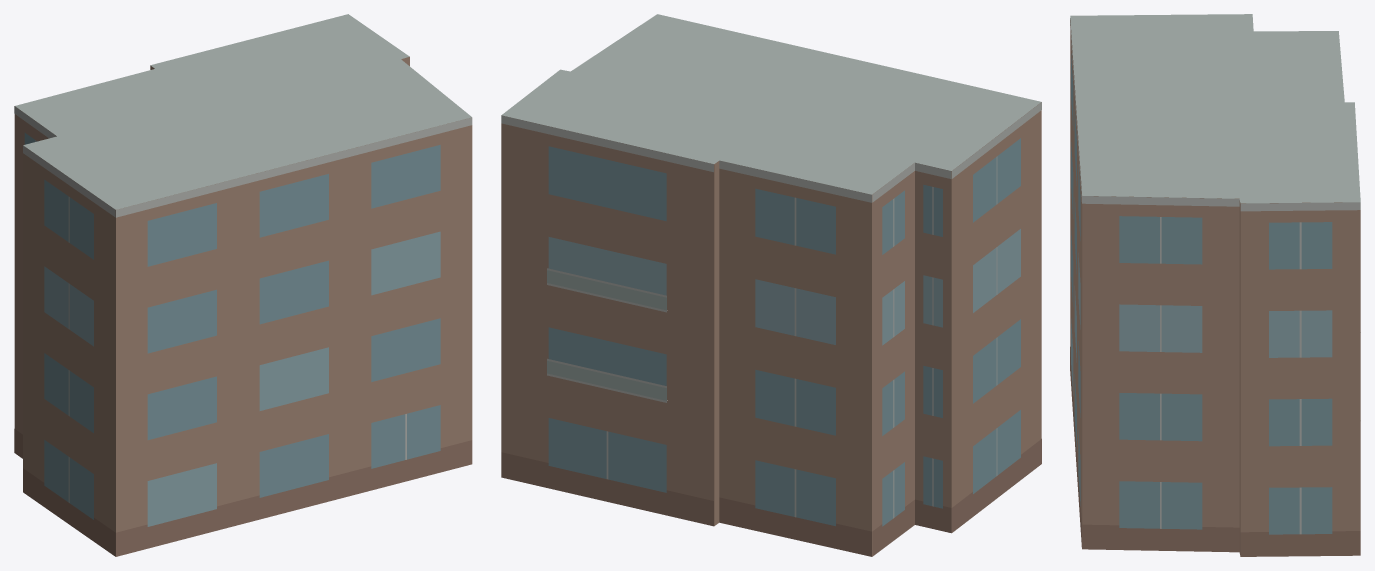
The model's file is survey-upis-33028710.glb.
3 views of the same model, side by side, from view 1: azimuth 30°, elevation 25°; view 2: azimuth 150°, elevation 25°; view 3: azimuth 270°, elevation 25° (orthographic). The views are drawn at different scales.
Visible parts, largest first — view 1: survey-upis-33028710.tmp; view 2: survey-upis-33028710.tmp; view 3: survey-upis-33028710.tmp.
Part boxes in pixels (x1,y1,x2,y2): survey-upis-33028710.tmp: (14, 14, 472, 556); survey-upis-33028710.tmp: (501, 14, 1041, 556); survey-upis-33028710.tmp: (1070, 14, 1360, 556).
Bounding box in the file's own units: 12.48 × 10.85 × 8.09.
